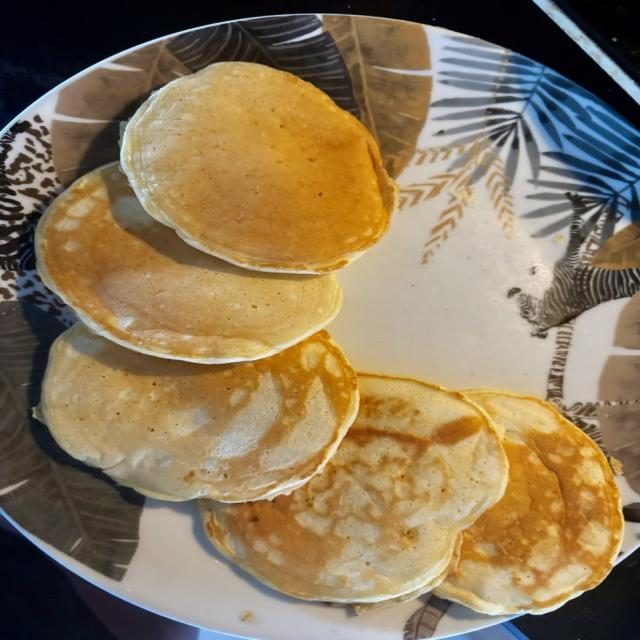pancake: (200, 374, 507, 602), (35, 164, 342, 363), (121, 62, 397, 273), (36, 323, 358, 501), (435, 390, 623, 614), (352, 534, 461, 615)
